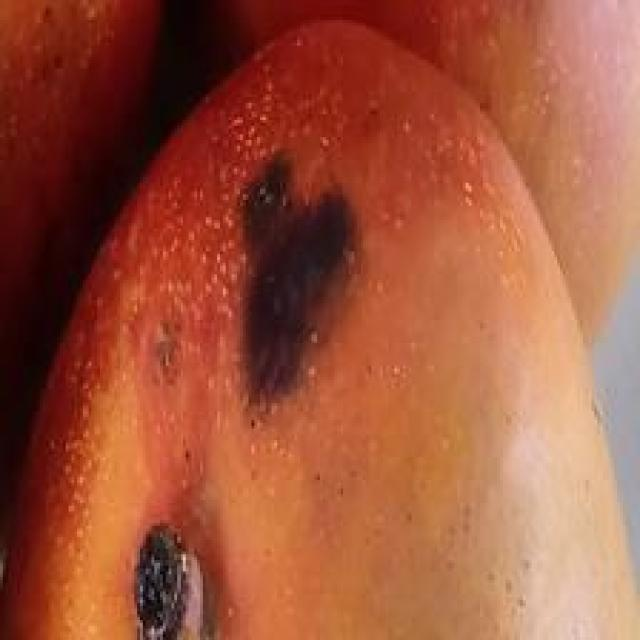Mango: (3, 19, 625, 633), (161, 3, 640, 359), (2, 0, 164, 395)
